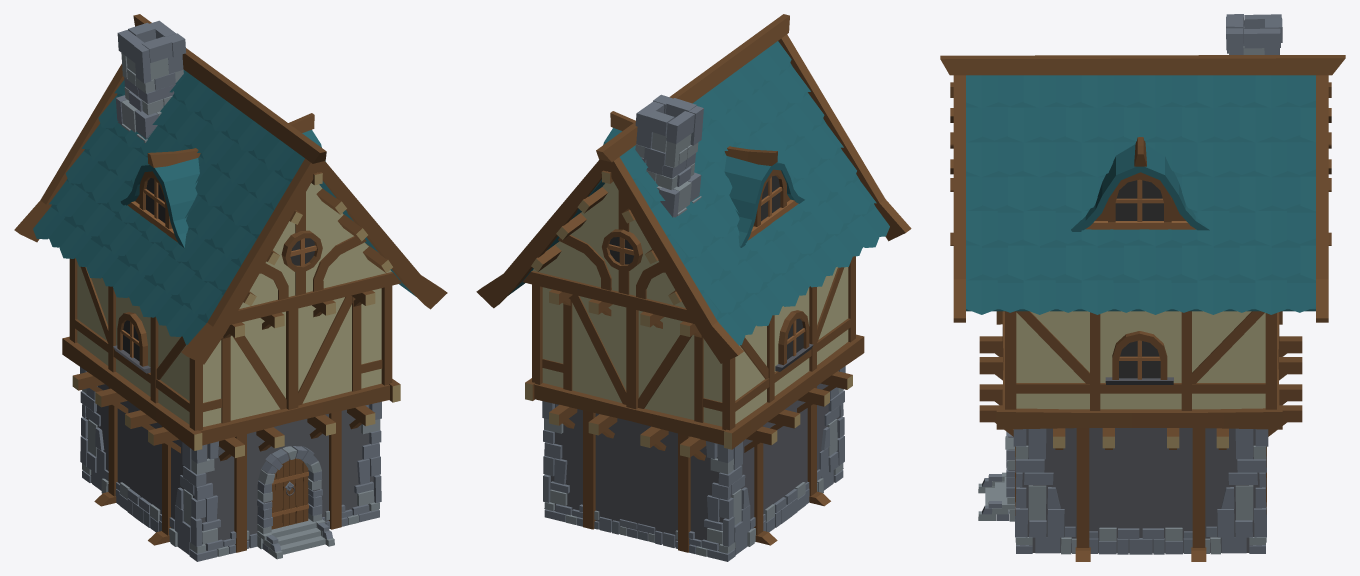
File: FantasyHouse.fbx
3 renders of one model, left to right at view 1: azimuth 30°, elevation 25°; view 2: azimuth 150°, elevation 25°; view 3: azimuth 270°, elevation 25°, orthographic. The views are drawn at different scales.
Parts seen in each view (by area): view 1: House_1, Door; view 2: House_1; view 3: House_1.
Part boxes in pixels (x1,y1,x2,y2): House_1: [14, 14, 447, 561]; Door: [271, 458, 308, 529]; House_1: [476, 14, 911, 561]; House_1: [940, 14, 1345, 561].
Size of the model in its own units: 214 by 339 by 266.
